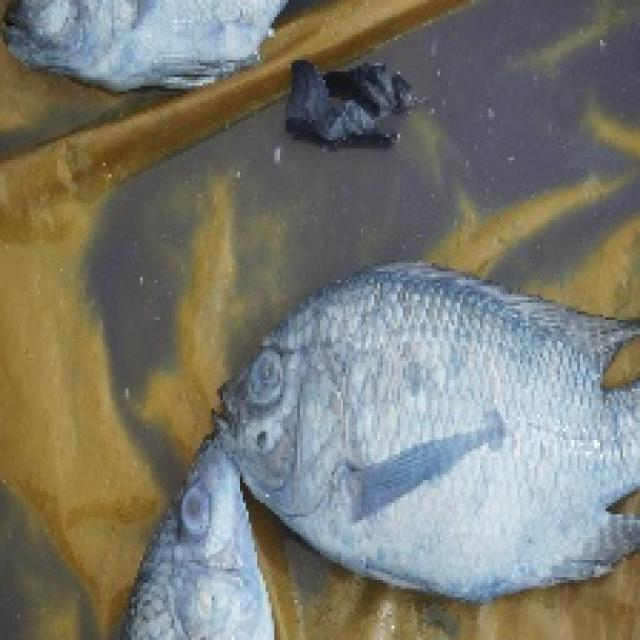Non-Fresh: (229, 268, 630, 553), (131, 457, 270, 640)
